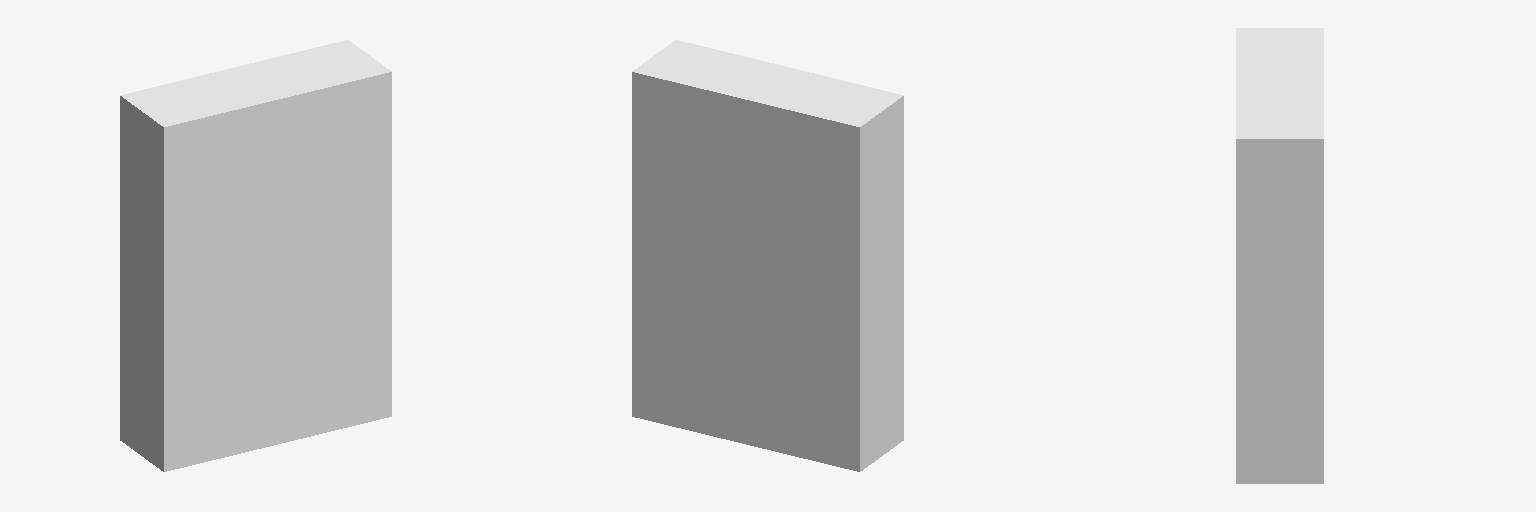
The model's file is Torse.obj.
3 views of the same model, side by side, from view 1: azimuth 30°, elevation 25°; view 2: azimuth 150°, elevation 25°; view 3: azimuth 270°, elevation 25° (orthographic).
Visible parts, largest first — view 1: object 1; view 2: object 1; view 3: object 1.
Part boxes in pixels (left/top/right/bottom): object 1: left=120, top=40, right=391, bottom=471; object 1: left=632, top=40, right=903, bottom=471; object 1: left=1236, top=28, right=1323, bottom=483.
Size of the model in its own units: 0.9 by 1.3 by 0.3.